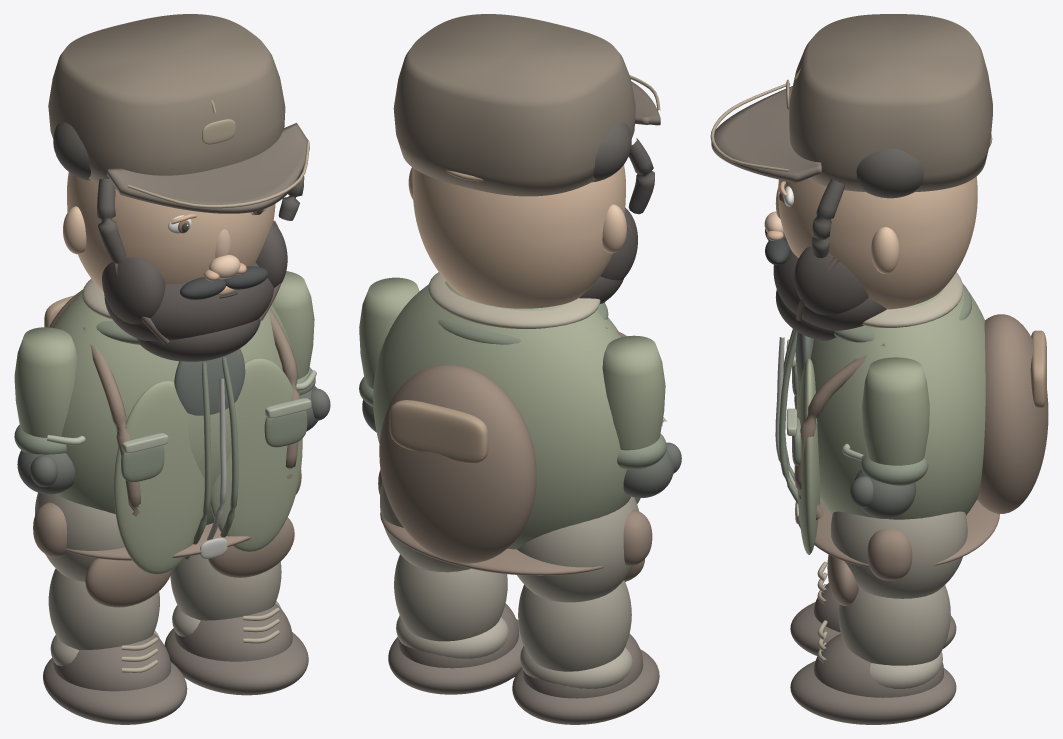
The model's file is afterday_bearded_survivor_v192_BEFORE.glb.
3 views of the same model, side by side, from view 1: azimuth 30°, elevation 25°; view 2: azimuth 150°, elevation 25°; view 3: azimuth 270°, elevation 25° (orthographic). The views are drawn at different scales.
Visible parts, largest first — view 1: cap sculpted crown_087, heavy rounded coat body_000, subtle coat front panel_003, sculpted adult head_054, subtle coat front panel_009, structured baseball cap bill_088, slim work sleeve_024, soft wrinkled trouser shin_035, natural restrained jaw beard_073, soft wrinkled trouser shin_045, weathered thick sole_037, weathered thick sole_047 (+38 smaller); view 2: cap sculpted crown_087, heavy rounded coat body_000, sculpted adult head_054, compact rucksack_020, soft wrinkled trouser shin_035, soft wrinkled trouser shin_045, padded short trouser thigh_034, slim work sleeve_024, rucksack low profile flap_021, weathered thick sole_037, weathered thick sole_047, soft scarf fold_016 (+17 smaller); view 3: cap sculpted crown_087, heavy rounded coat body_000, sculpted adult head_054, compact rucksack_020, padded short trouser thigh_044, soft wrinkled trouser shin_045, slim work sleeve_029, structured baseball cap bill_088, weathered thick sole_047, blended beard side_078, round boot upper_048, subtle coat front panel_009 (+22 smaller).
Part boxes in pixels (bbox=[...]): cap sculpted crown_087: bbox=[48, 14, 285, 189]; heavy rounded coat body_000: bbox=[52, 290, 297, 525]; subtle coat front panel_003: bbox=[114, 380, 204, 574]; sculpted adult head_054: bbox=[67, 172, 275, 292]; subtle coat front panel_009: bbox=[210, 358, 302, 552]; structured baseball cap bill_088: bbox=[107, 123, 309, 213]; slim work sleeve_024: bbox=[14, 327, 76, 437]; soft wrinkled trouser shin_035: bbox=[48, 568, 159, 649]; natural restrained jaw beard_073: bbox=[104, 262, 274, 341]; soft wrinkled trouser shin_045: bbox=[170, 554, 281, 620]; weathered thick sole_037: bbox=[43, 658, 187, 724]; weathered thick sole_047: bbox=[164, 628, 308, 695]; cap sculpted crown_087: bbox=[393, 14, 635, 196]; heavy rounded coat body_000: bbox=[373, 281, 630, 549]; sculpted adult head_054: bbox=[412, 165, 625, 308]; compact rucksack_020: bbox=[379, 364, 536, 563]; soft wrinkled trouser shin_035: bbox=[518, 580, 631, 671]; soft wrinkled trouser shin_045: bbox=[394, 554, 507, 641]; padded short trouser thigh_034: bbox=[517, 496, 639, 602]; slim work sleeve_024: bbox=[602, 335, 665, 450]; rucksack low profile flap_021: bbox=[389, 400, 488, 463]; weathered thick sole_037: bbox=[512, 649, 659, 724]; weathered thick sole_047: bbox=[388, 619, 523, 694]; soft scarf fold_016: bbox=[428, 272, 600, 328]; cap sculpted crown_087: bbox=[789, 14, 992, 192]; heavy rounded coat body_000: bbox=[797, 287, 985, 519]; sculpted adult head_054: bbox=[778, 176, 977, 309]; compact rucksack_020: bbox=[977, 314, 1048, 513]; padded short trouser thigh_044: bbox=[830, 511, 967, 598]; soft wrinkled trouser shin_045: bbox=[838, 585, 950, 665]; slim work sleeve_029: bbox=[862, 357, 929, 465]; structured baseball cap bill_088: bbox=[711, 86, 821, 182]; weathered thick sole_047: bbox=[790, 661, 956, 724]; blended beard side_078: bbox=[794, 246, 868, 315]; round boot upper_048: bbox=[814, 633, 943, 697]; subtle coat front panel_009: bbox=[797, 358, 820, 554].
Size of the model in its own units: 1.52 by 3.08 by 1.51.
